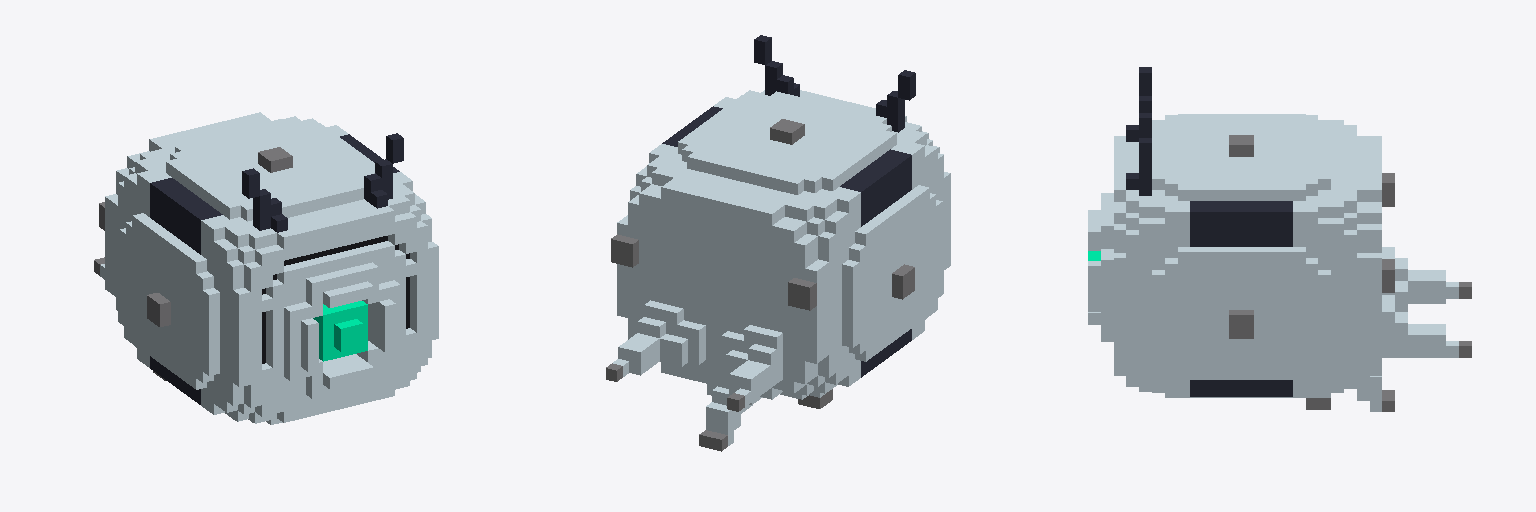
The picture shows the model from 3 angles: view 1: azimuth 30°, elevation 25°; view 2: azimuth 150°, elevation 25°; view 3: azimuth 270°, elevation 25°; orthographic projection.
Parts seen in each view (by area): view 1: object 1; view 2: object 1; view 3: object 1.
Boxes of the visible parts, x1=… form: object 1: x1=94, y1=112, x2=438, y2=424; object 1: x1=606, y1=35, x2=950, y2=451; object 1: x1=1088, y1=67, x2=1471, y2=411.
Bounding box in the file's own units: 2.2 × 2.6 × 3.
Materials: 1 (1 with a texture image).